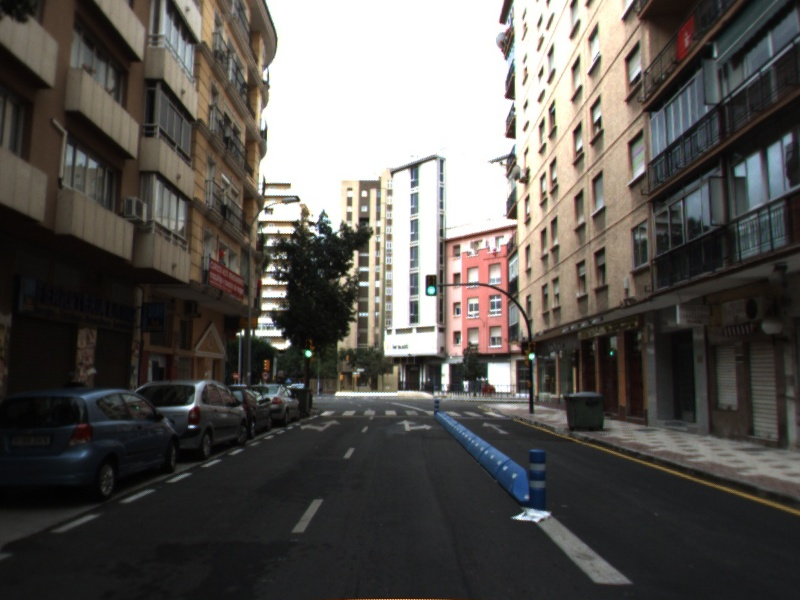STRAIGHT: (481, 420, 510, 435)
STRAIGHT_LEFT: (299, 418, 342, 433)
STRAIGHT_RIGHT: (395, 418, 434, 433)
